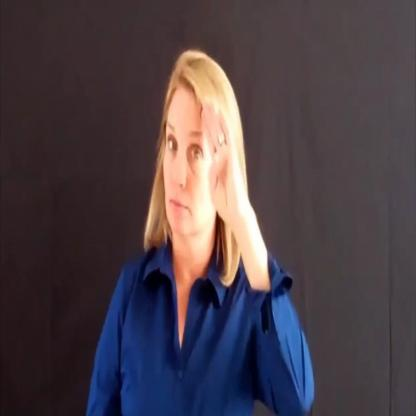Hello: (153, 30, 242, 242)
